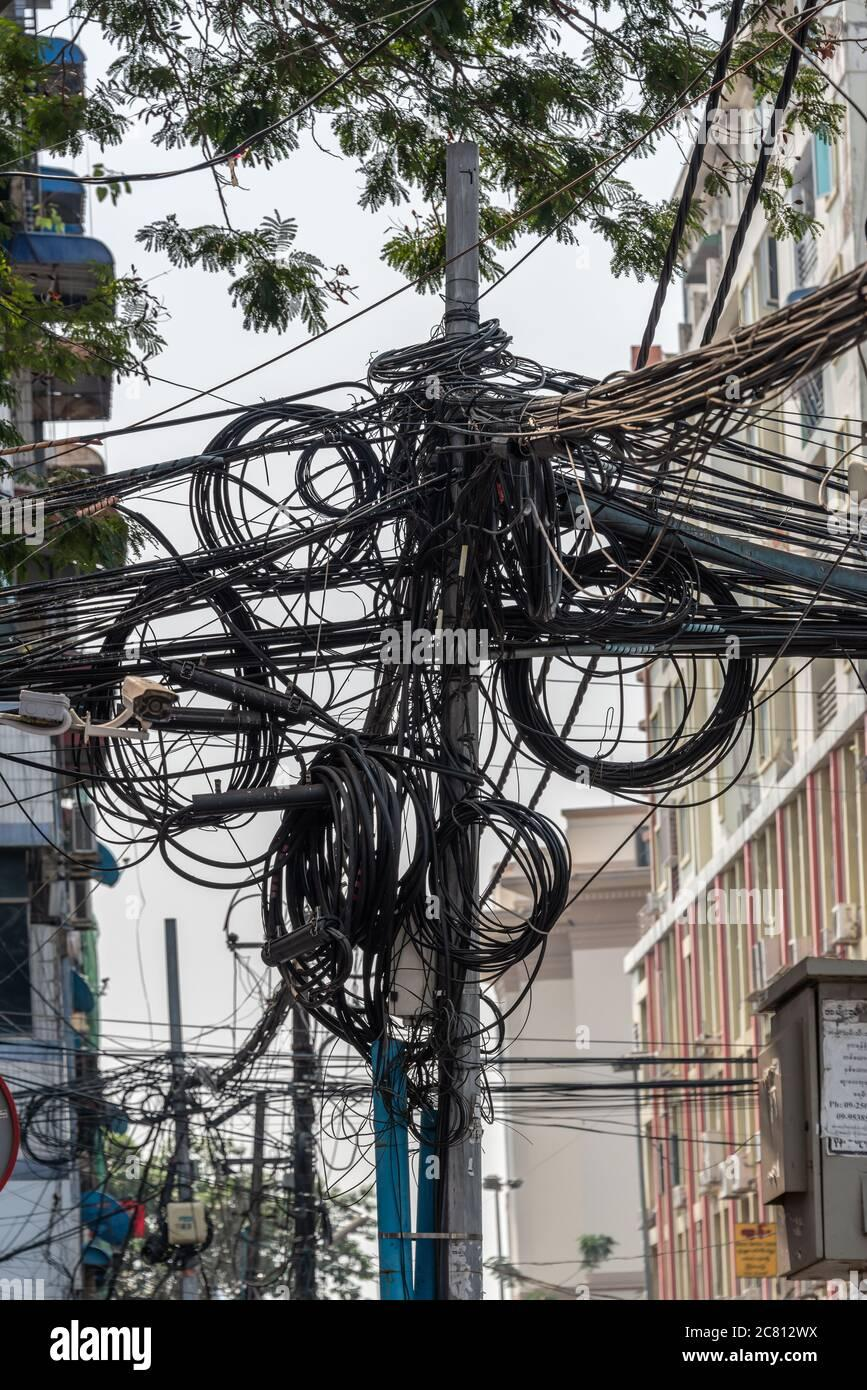wires: (181, 390, 780, 1003)
